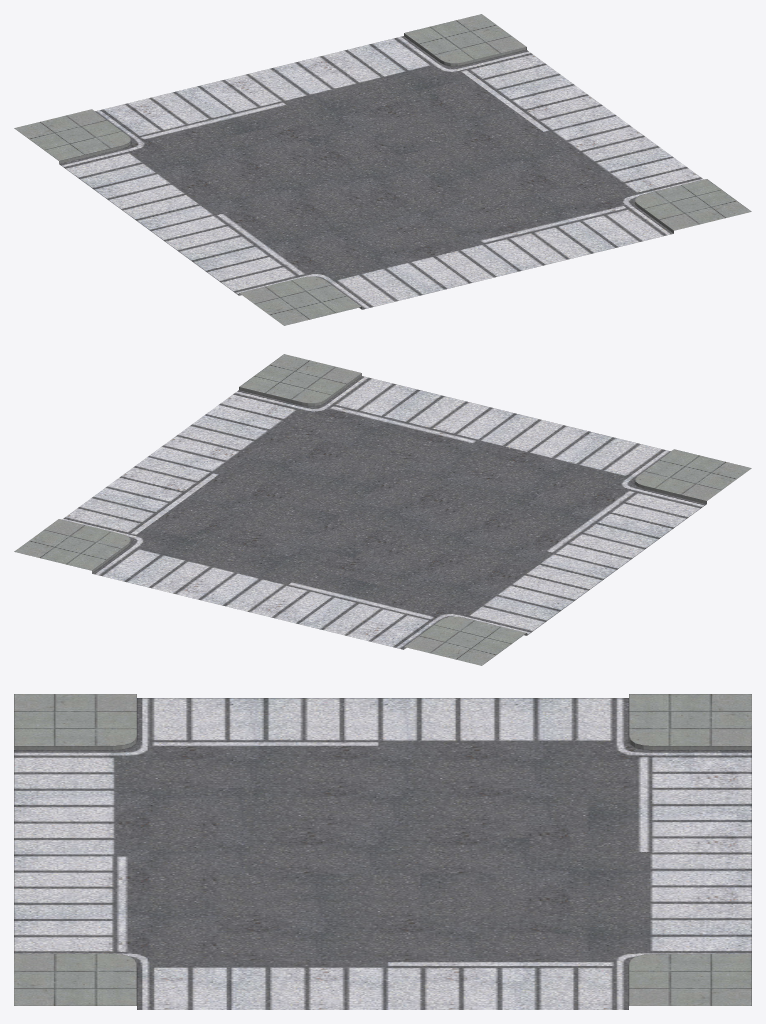
File: route_4_voies.fbx
3 renders of one model, top to bottom at view 1: azimuth 30°, elevation 25°; view 2: azimuth 150°, elevation 25°; view 3: azimuth 270°, elevation 25°, orthographic. The views are drawn at different scales.
Visible parts, largest first — view 1: Plane; view 2: Plane; view 3: Plane.
Boxes of the visible parts, x1,y1,x2,y2 form: Plane: (14,14,751,325); Plane: (14,354,751,665); Plane: (14,694,751,1009).
Size of the model in its own units: 1200 by 7.15 by 1200.
